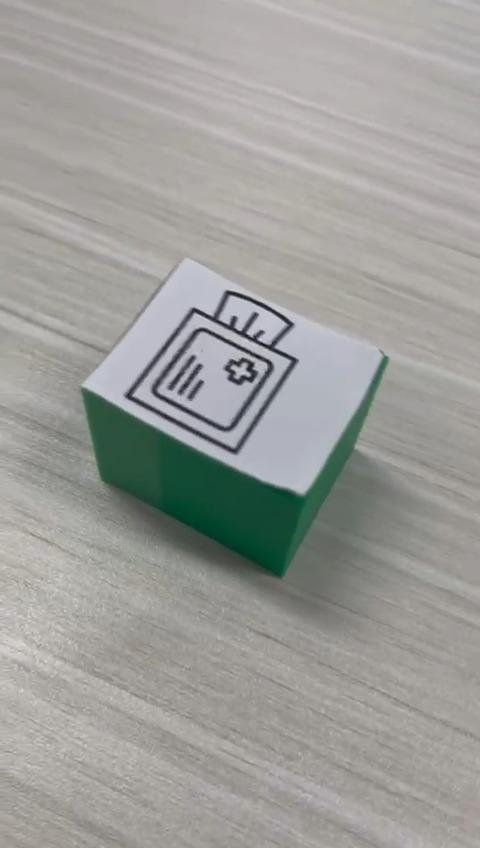Gauze: (79, 255, 389, 579)
